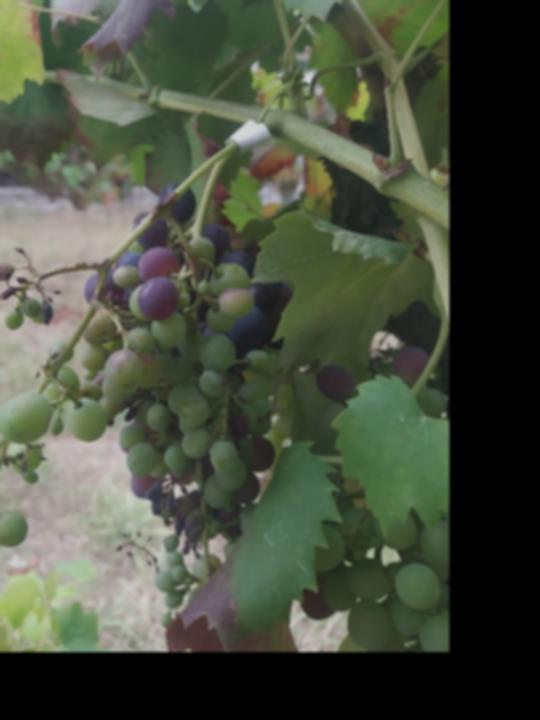grape: (0, 180, 280, 611)
